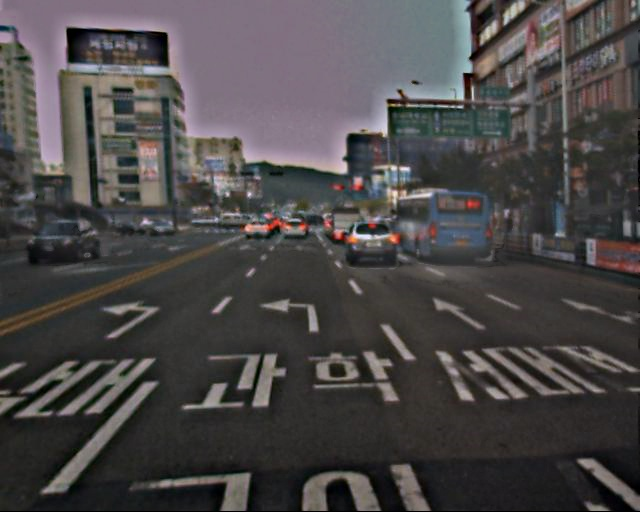person: (503, 215, 516, 247)
